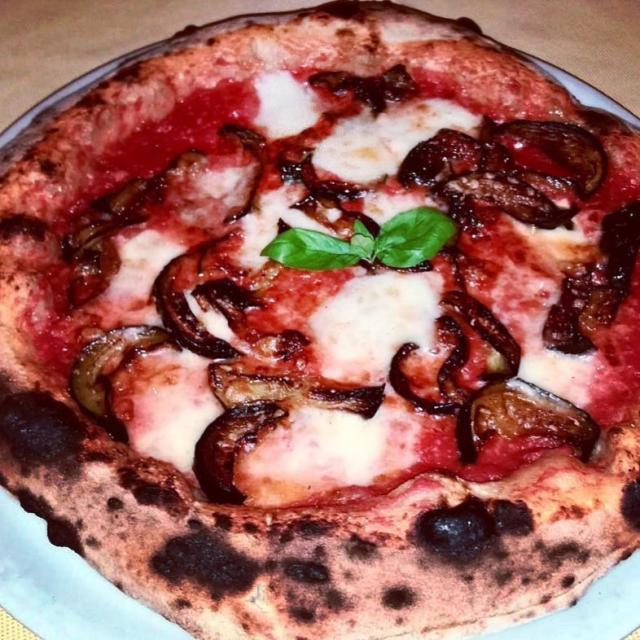basil: (258, 202, 453, 272)
pizza: (0, 2, 640, 640)
